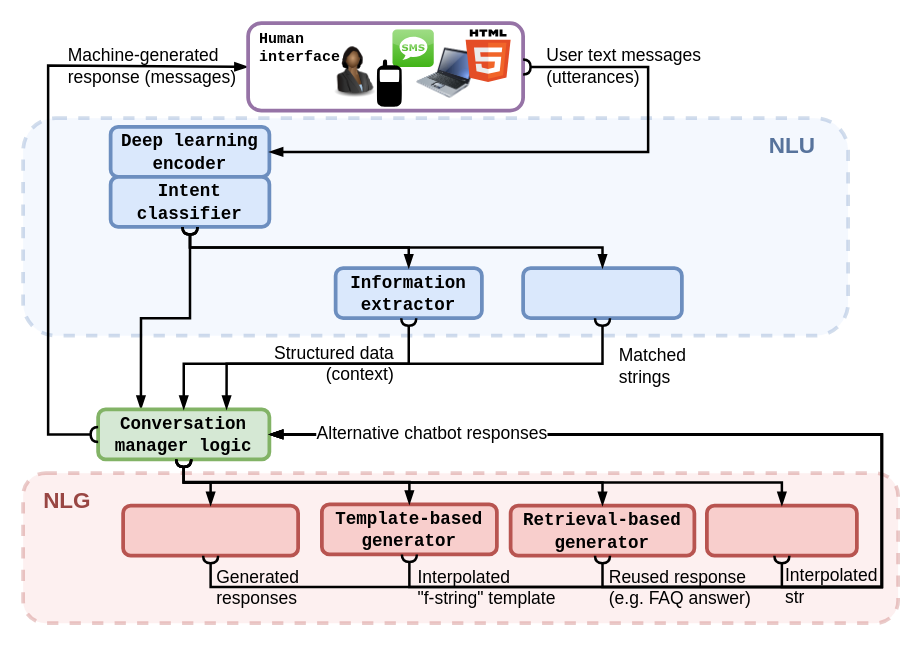
The diagram is 921 pixels wide and 646 high, and some of its shapes have lost their labels. The centre of each missing label's shape, as x and y in pixels:
"Deep learning generator" goes at (210,530).
"Grammar/regex parser" goes at (602,292).
"Programatic generator" goes at (781,530).
